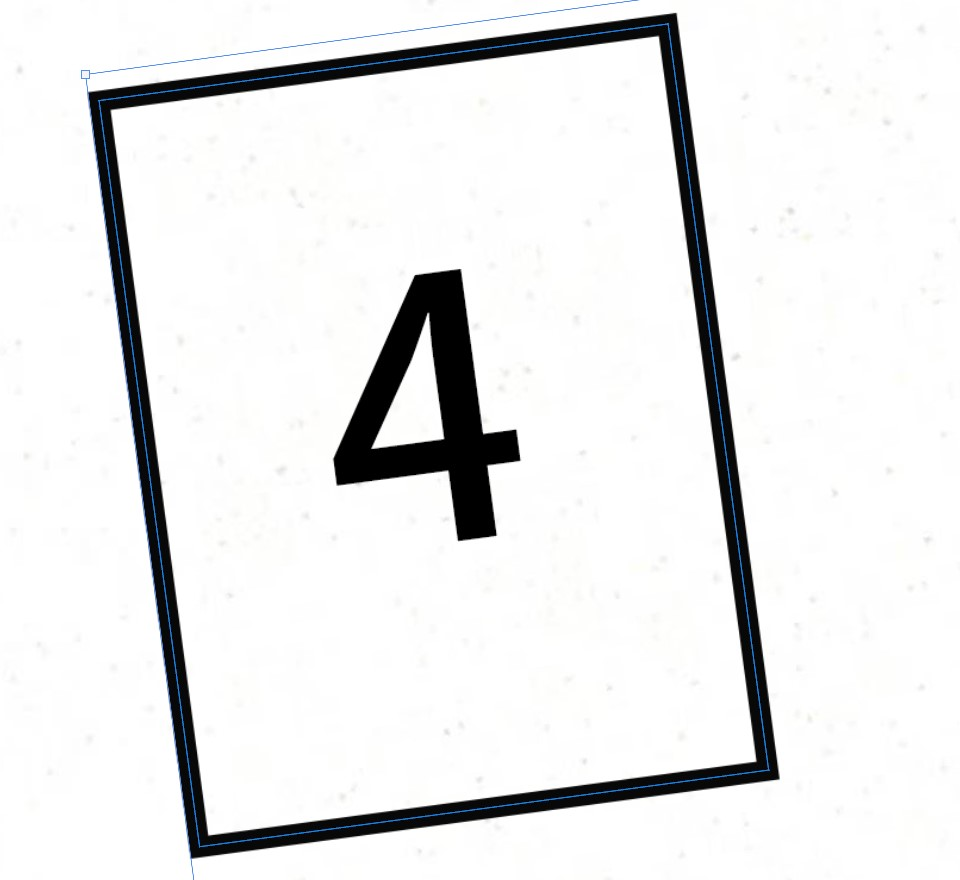four: (278, 206, 590, 593)
